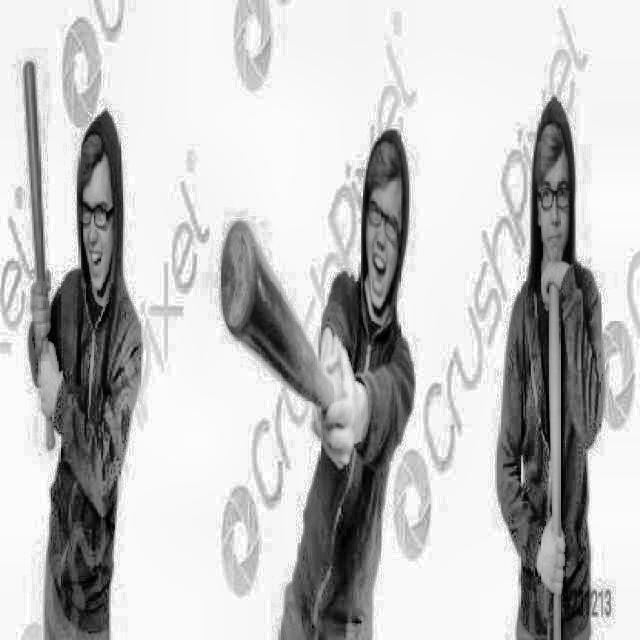tongkat pemukul: (212, 211, 363, 458)
